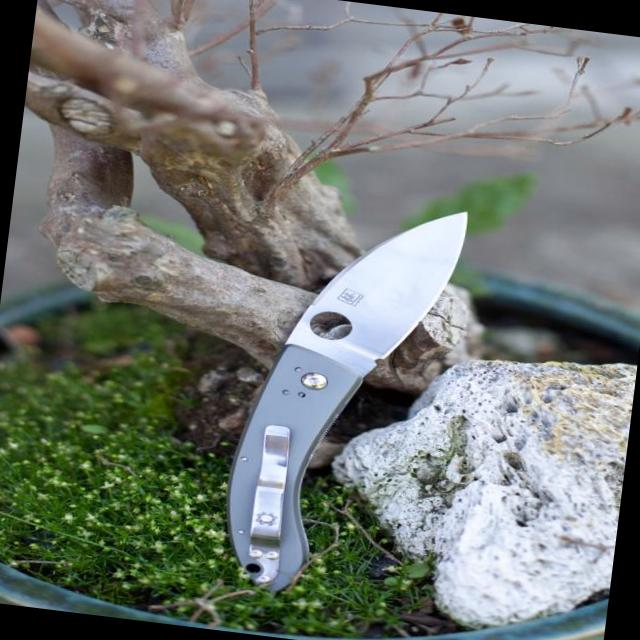Knife: (228, 213, 466, 590)
